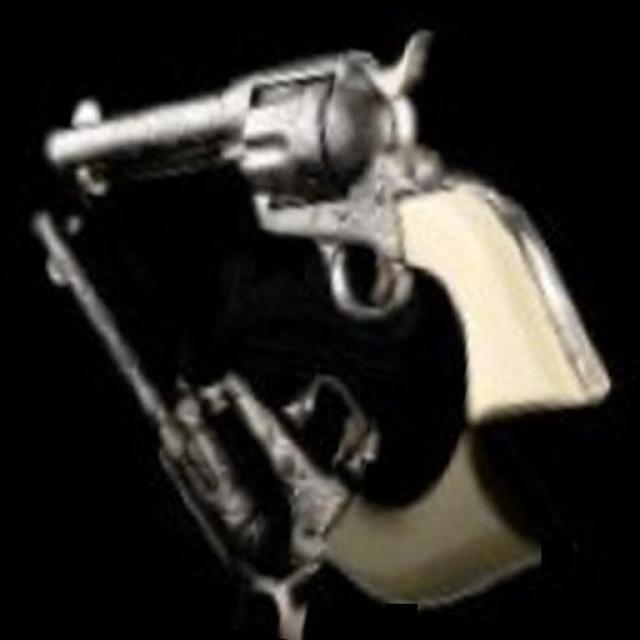gun: (12, 0, 640, 434)
